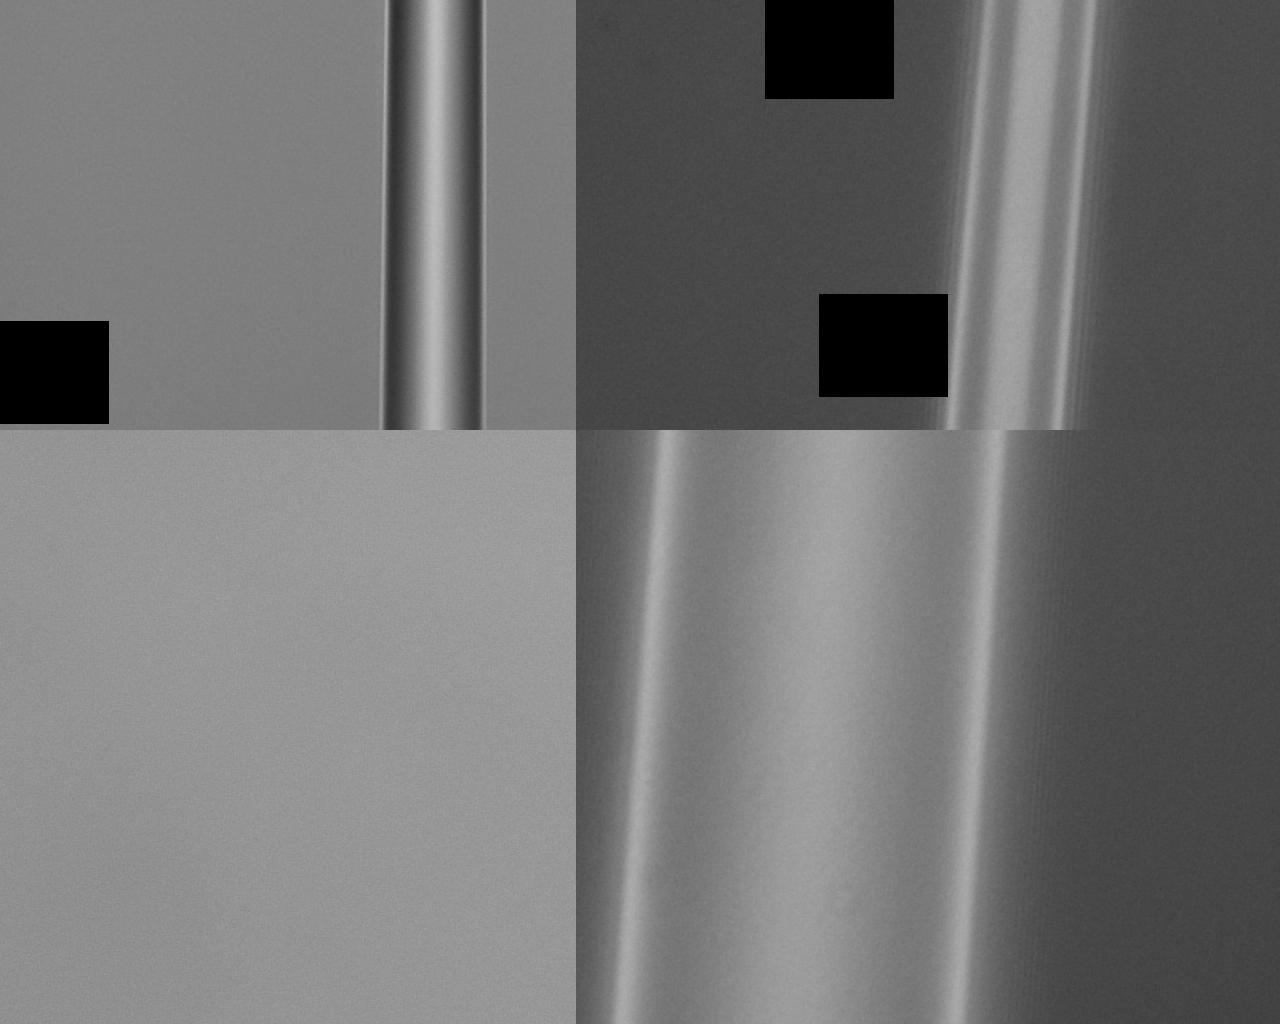fiber: (881, 0, 926, 1024)
